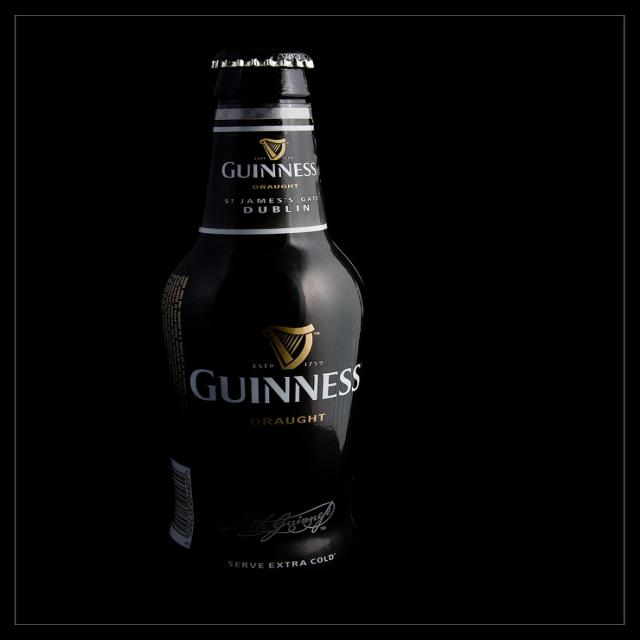guiness: (185, 322, 365, 407), (216, 136, 320, 181)
